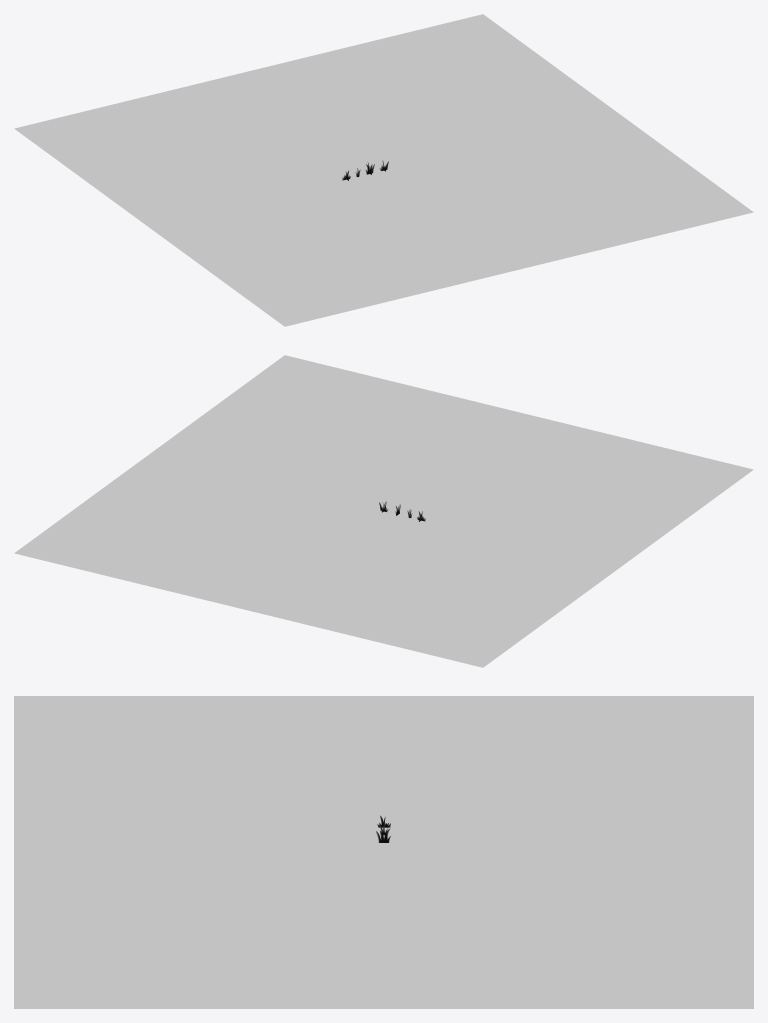
The model's file is grass_field.gltf.
3 views of the same model, one above another, from view 1: azimuth 30°, elevation 25°; view 2: azimuth 150°, elevation 25°; view 3: azimuth 270°, elevation 25° (orthographic). The views are drawn at different scales.
Visible parts, largest first — view 1: Landscape; view 2: Landscape; view 3: Landscape.
Boxes of the visible parts, x1,y1,x2,y2 form: Landscape: (14,14,753,326); Landscape: (14,355,753,667); Landscape: (14,696,753,1008).
Size of the model in its own units: 15.6 by 0.4162 by 15.6.
Materials: 2 (1 with a texture image).
